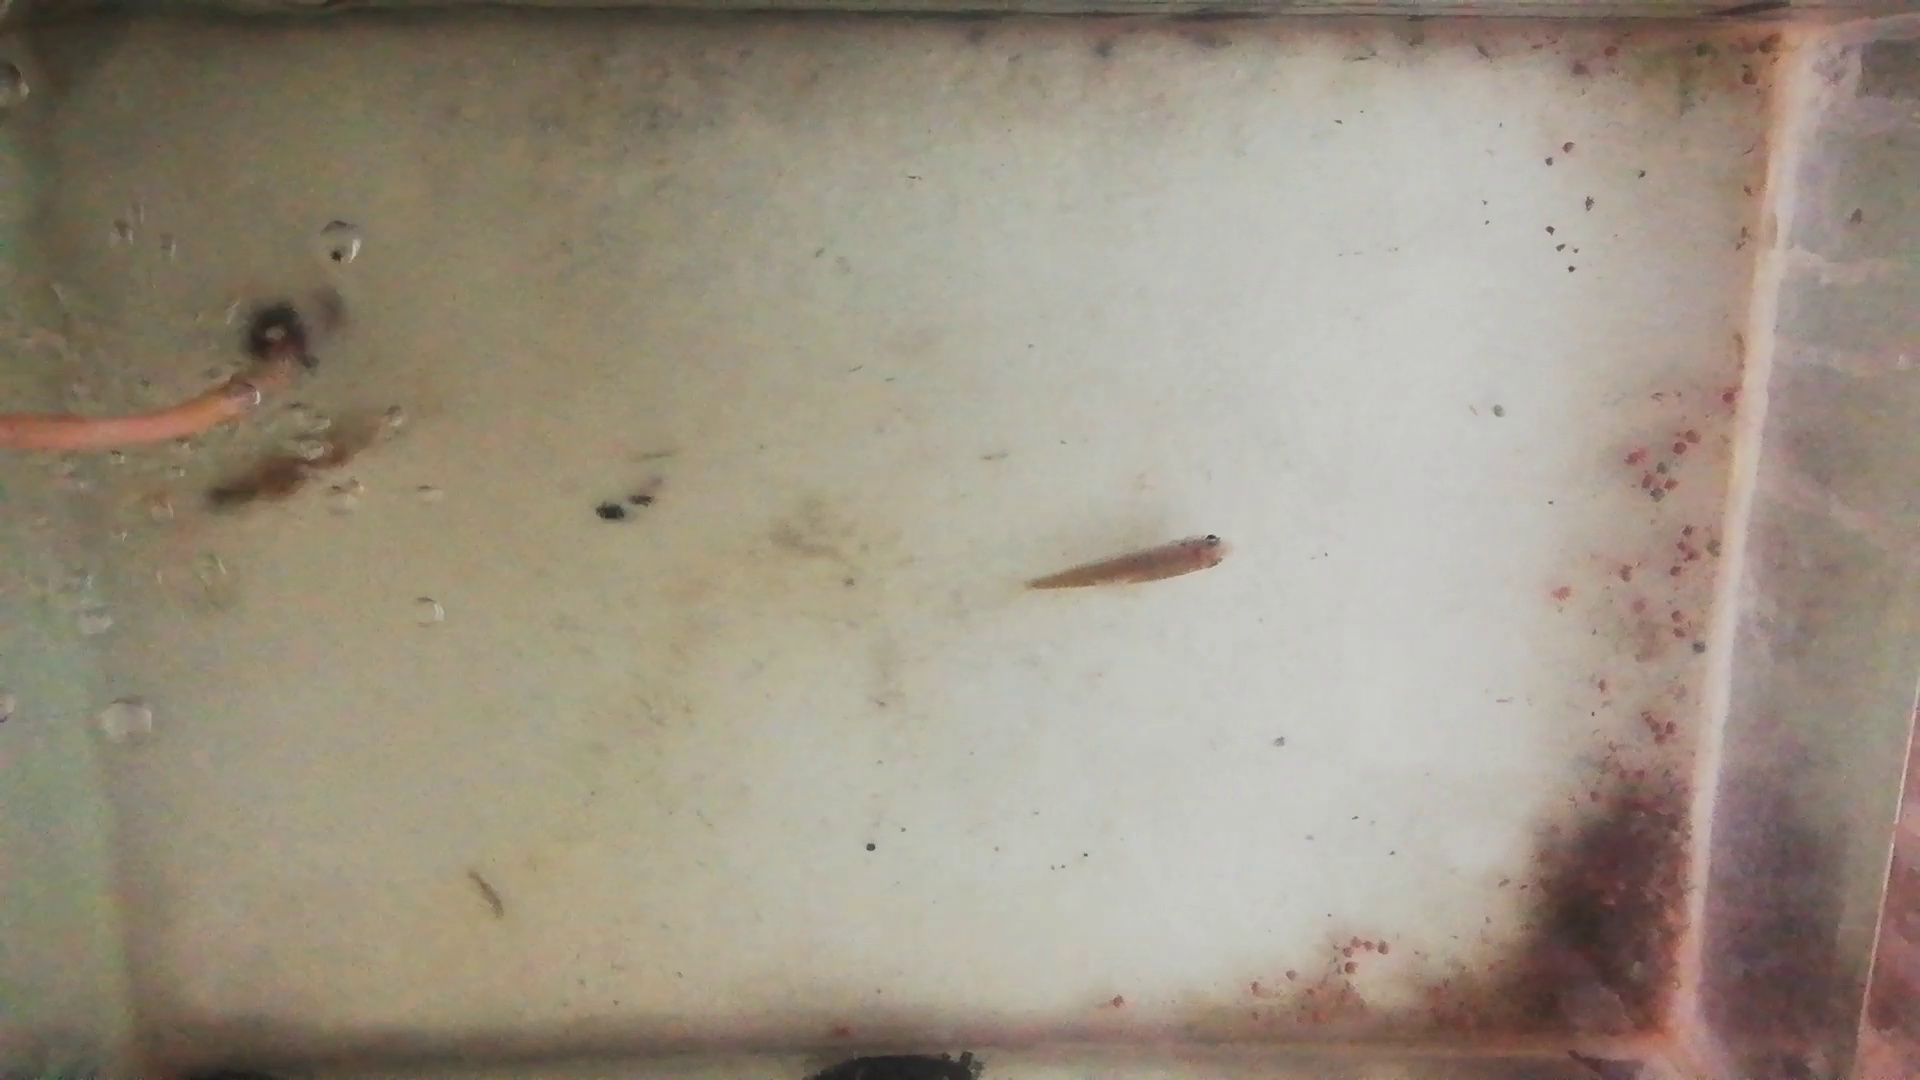fish: (200, 429, 378, 520), (1025, 534, 1238, 593)
